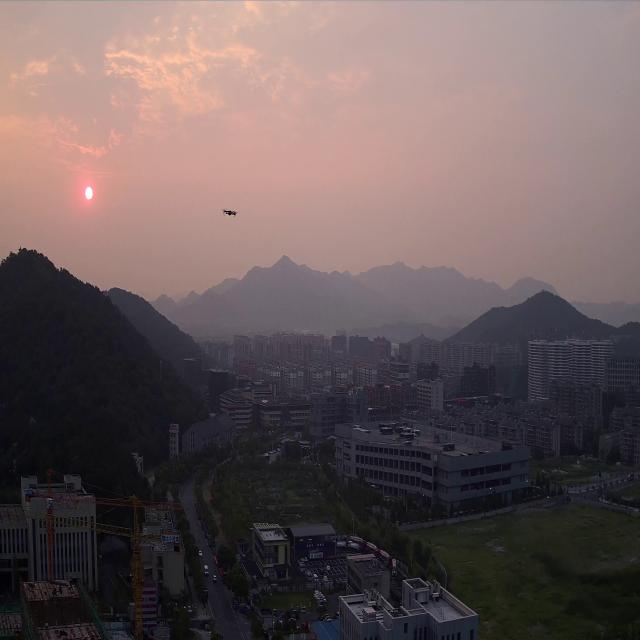UAV: (220, 208, 238, 217)
